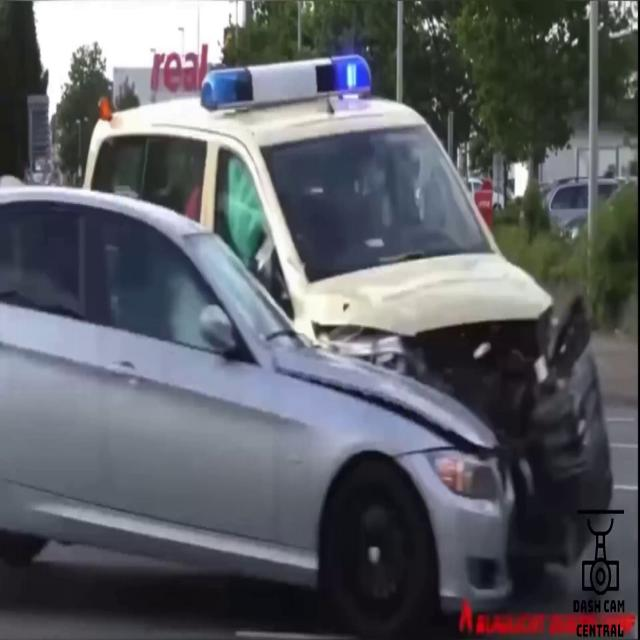accident: (0, 45, 608, 555)
